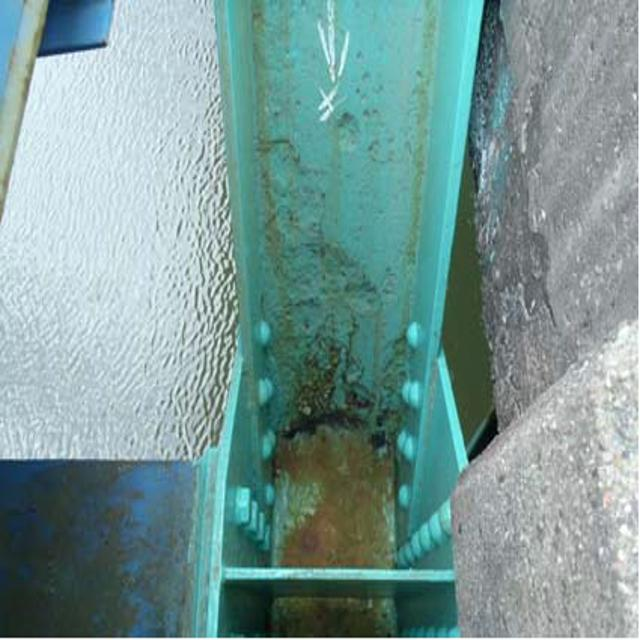corrosion: (266, 354, 404, 637)
